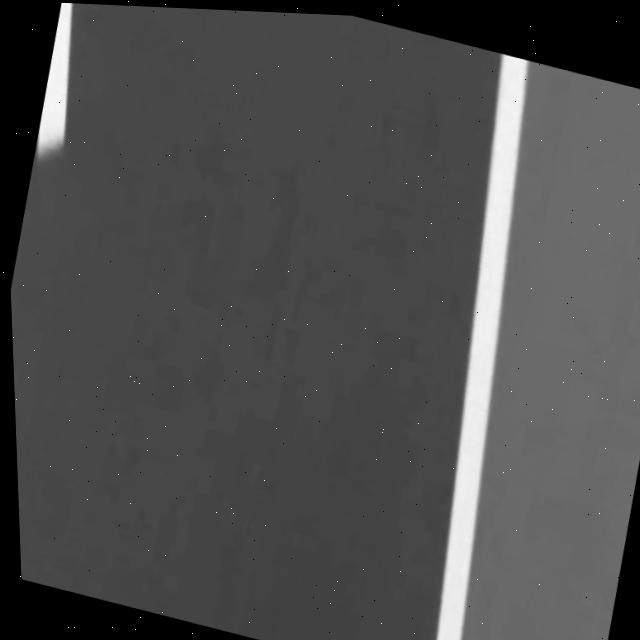center: (38, 3, 73, 158)
left: (435, 53, 530, 640)
